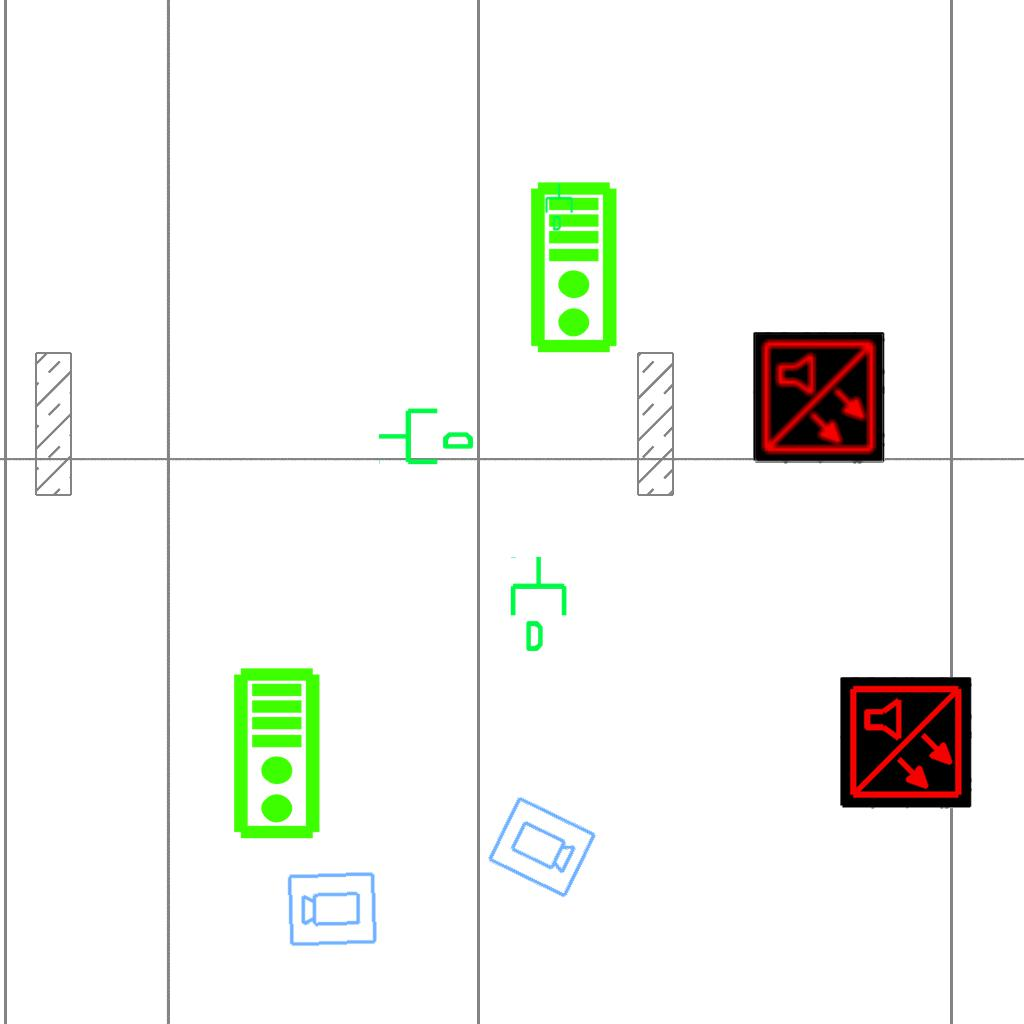Datenanschluss_einfach: (506, 554, 575, 654), (376, 400, 476, 469), (543, 182, 577, 232)
Gegensprechanlage_mit_Video: (528, 180, 623, 356), (231, 666, 326, 842)
KFO_Kamera_mit_Festobjektiv: (483, 792, 600, 903), (285, 868, 380, 949)
OKW_Multisensormelder_(Kombination_optischer_Rauch-Kahlenmonoxid_Waerme-Melder): (840, 677, 972, 809), (753, 332, 885, 464)
